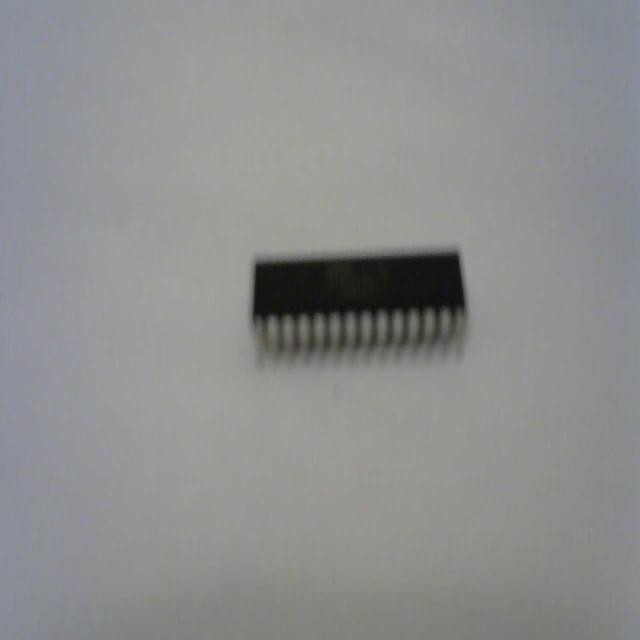atmega: (248, 243, 470, 367)
